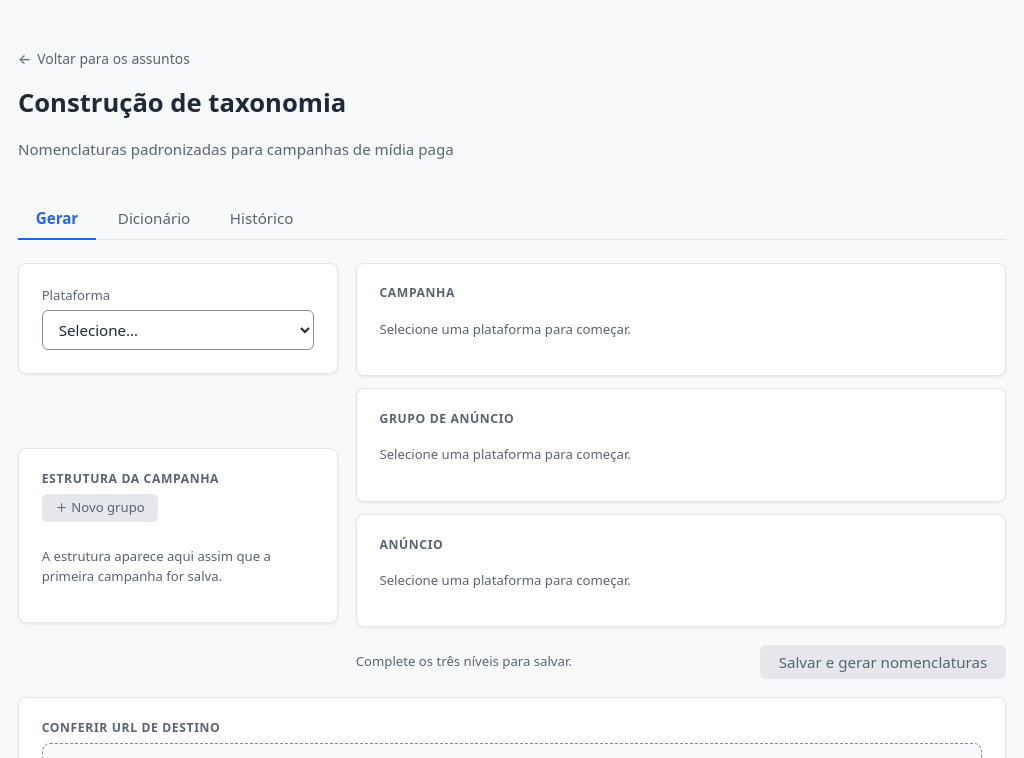
Scenario: salvar › só habilita o botão quando os três níveis estão válidos
Select "Meta (FB)" in the dropdown labelled "Plataforma" at point(178, 330), box [42,310,314,350]
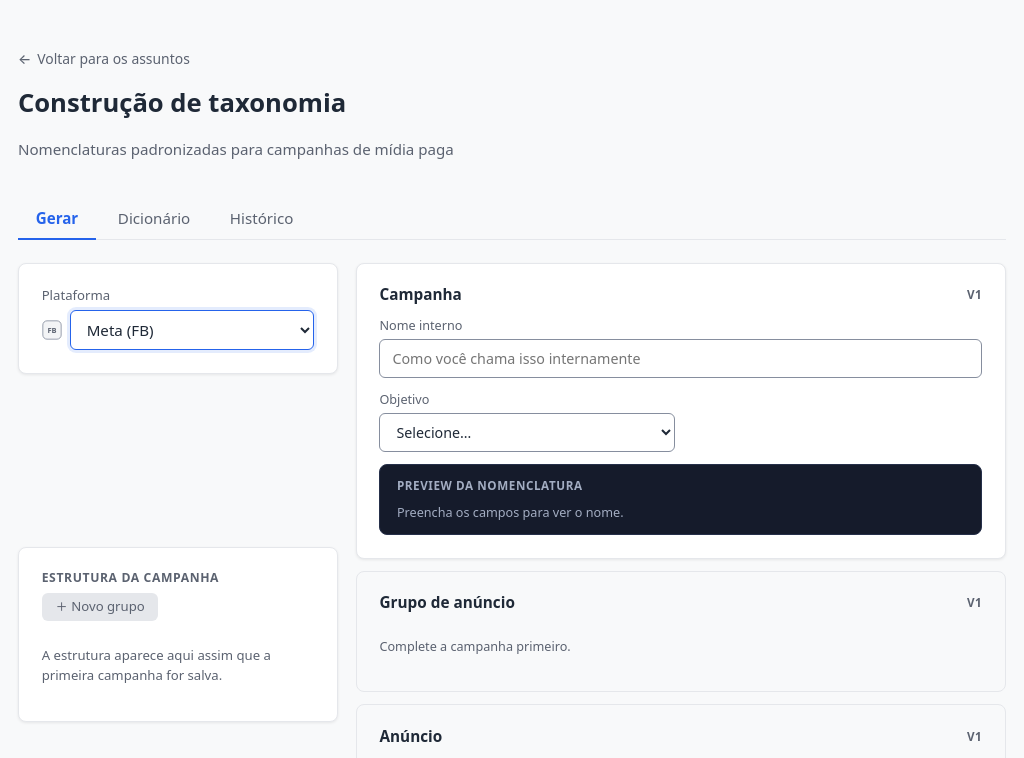
Select "Conversão → CV" in the dropdown labelled "Objetivo" at point(527, 433), box [380,413,675,452]
(page scrolled)
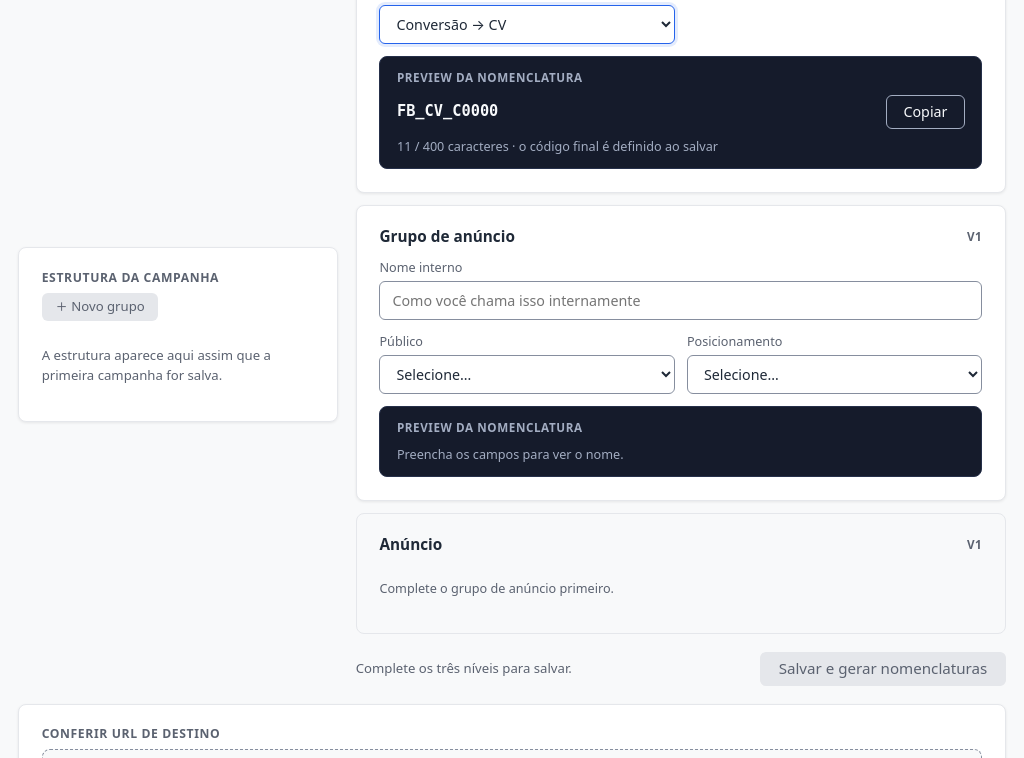
Select "Remarketing → RMKT" in the dropdown labelled "Público" at point(527, 375), box [380,355,675,394]
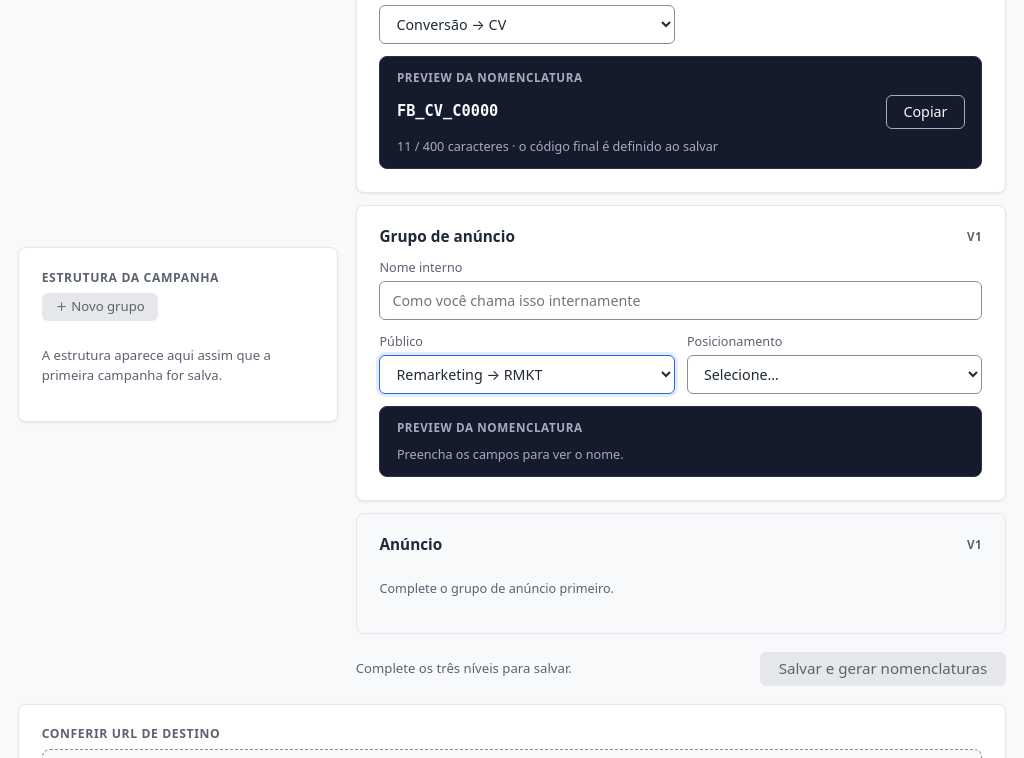
Select "Instagram Stories → IGST" in the dropdown labelled "Posicionamento" at point(835, 375), box [687,355,982,394]
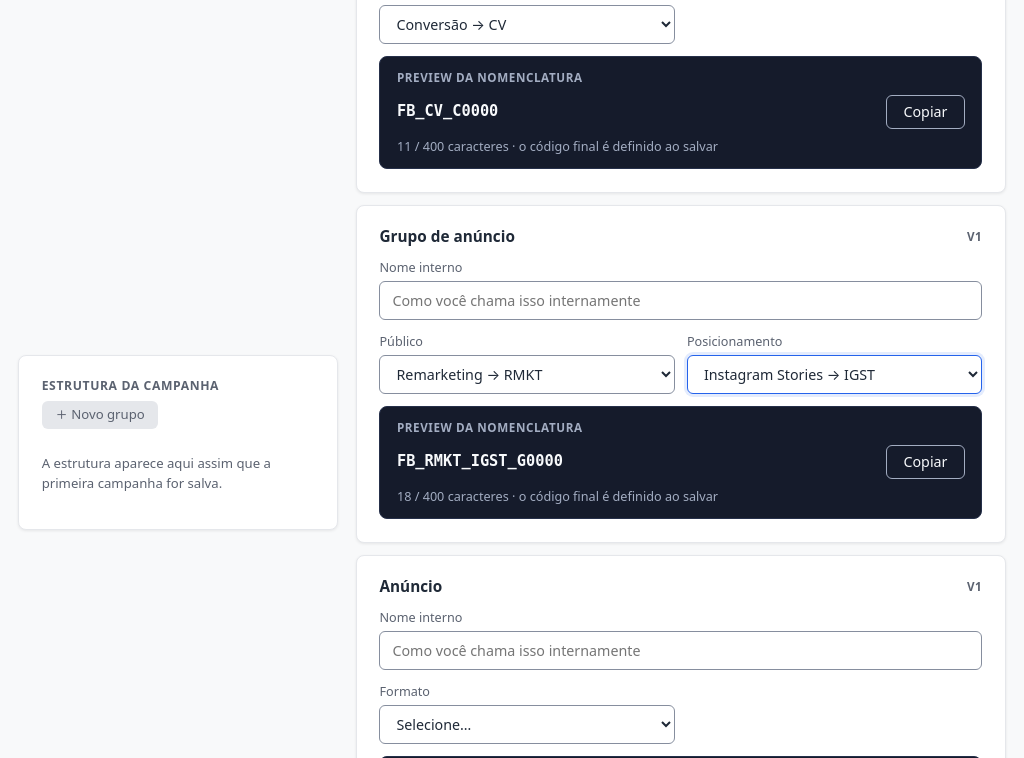
Select "Stories → ST" in the dropdown labelled "Formato" at point(527, 725), box [380,705,675,744]
(page scrolled)
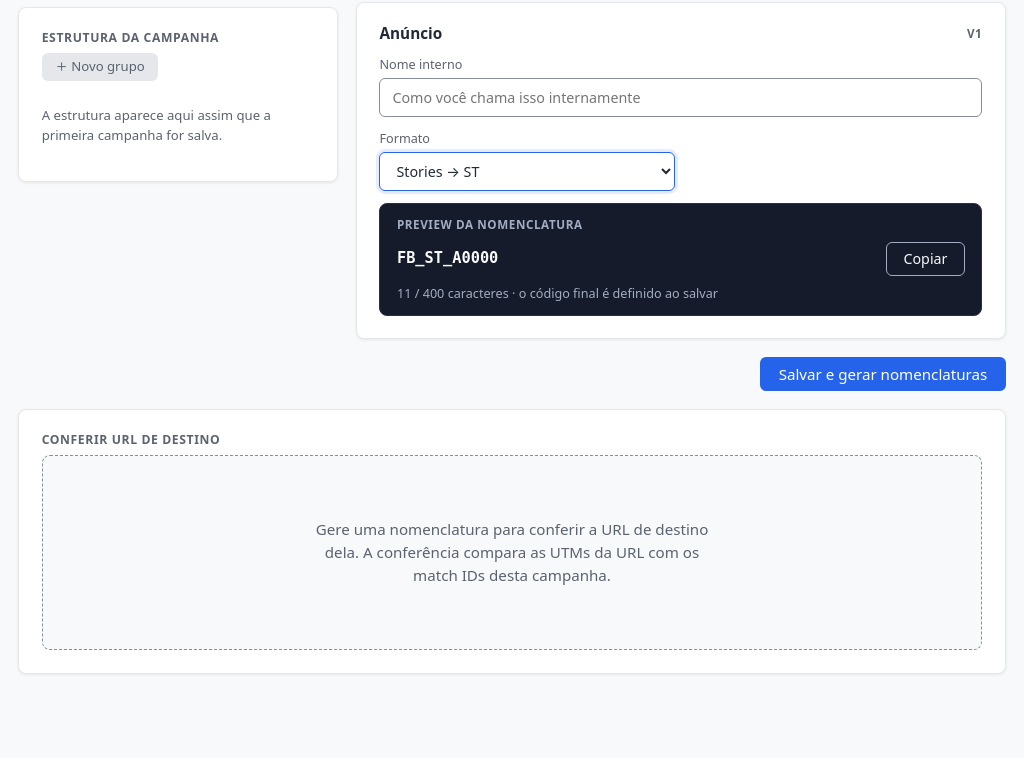
Expected: the button "Salvar e gerar nomenclaturas" is enabled, [760,357,1006,391]
